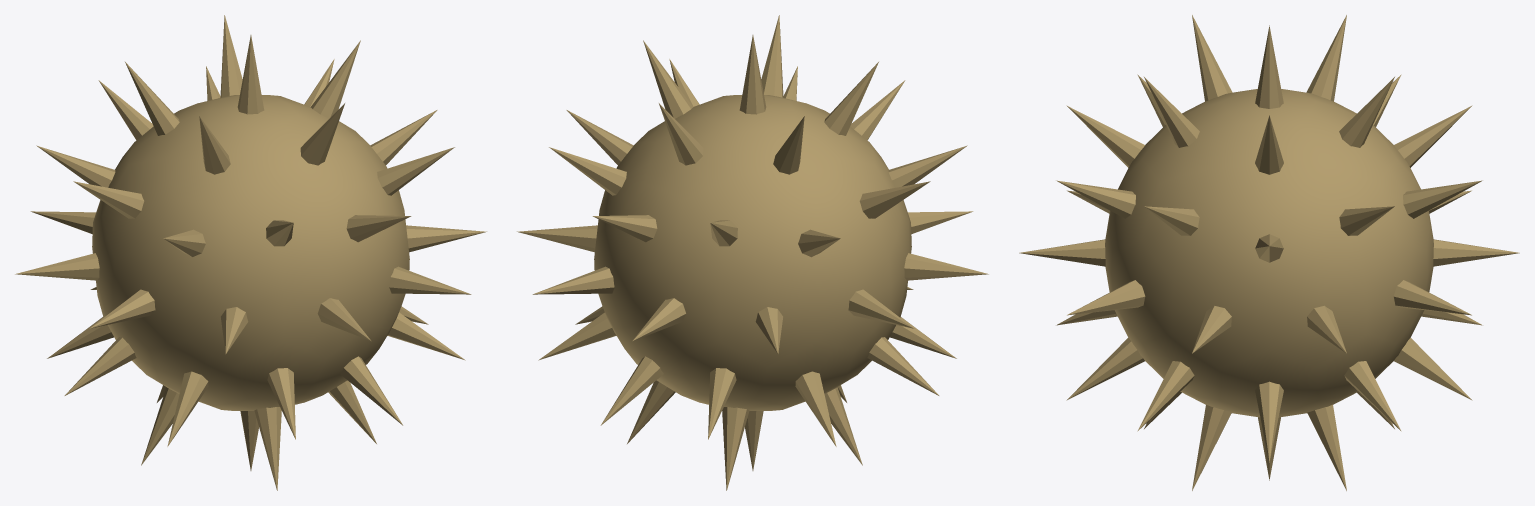
The model's file is boladeespinhos.fbx.
The picture shows the model from 3 angles, left to right: view 1: azimuth 30°, elevation 25°; view 2: azimuth 150°, elevation 25°; view 3: azimuth 270°, elevation 25°; orthographic projection. The views are drawn at different scales.
Visible parts, largest first — view 1: Icosphere.001; view 2: Icosphere.001; view 3: Icosphere.001.
Boxes of the visible parts, <box> form: Icosphere.001: <box>15,15,486,490</box>; Icosphere.001: <box>517,15,988,490</box>; Icosphere.001: <box>1019,15,1519,490</box>.
Bounding box in the file's own units: 227 × 239 × 239.
